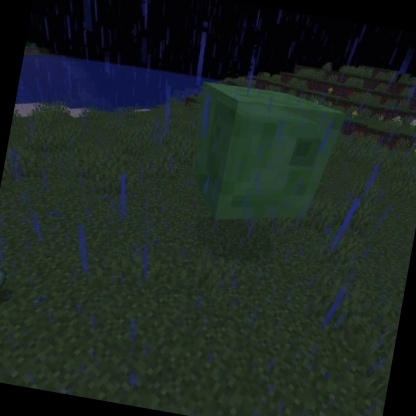slime: (176, 72, 354, 245)
